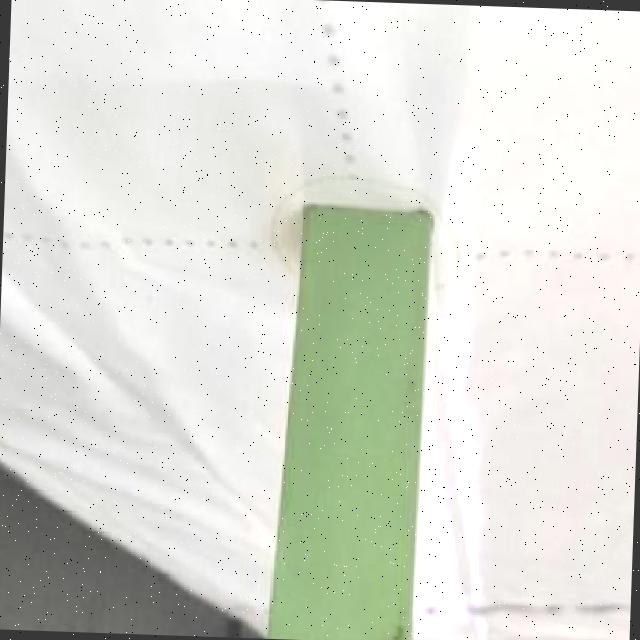greenbox: (264, 202, 433, 640)
